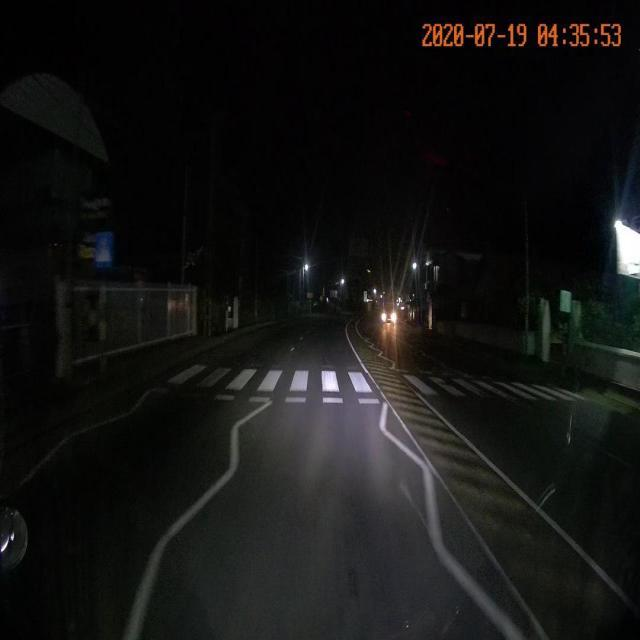Crosswalk: (167, 360, 397, 406)
